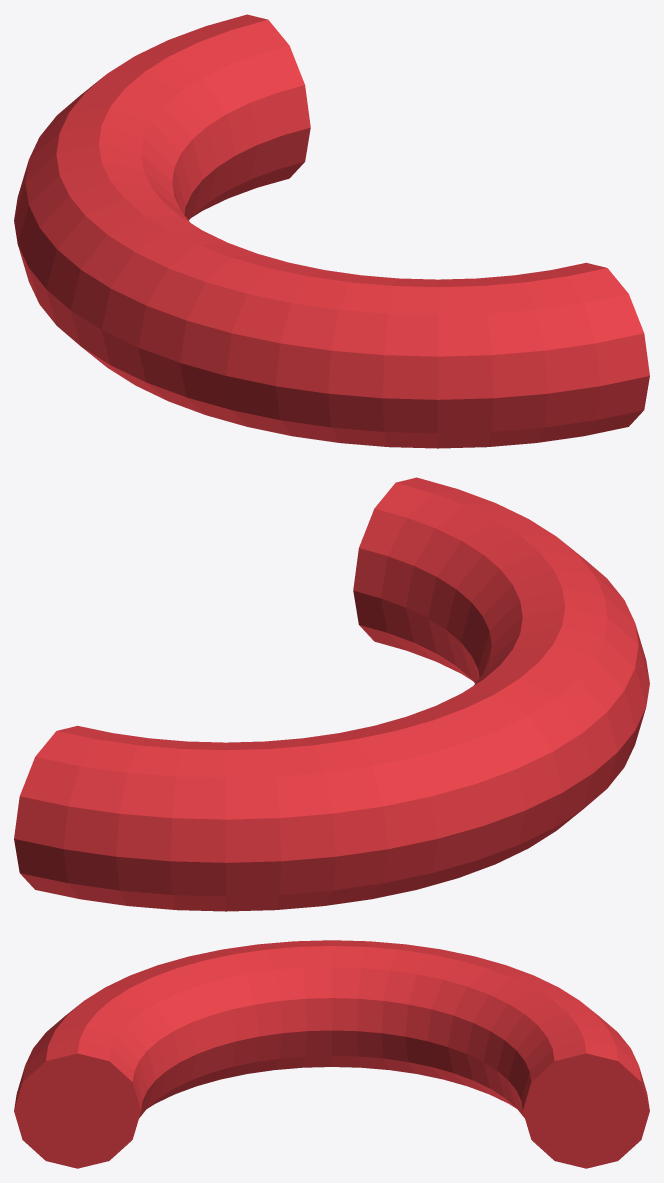
The model's file is F3LockerLeft.fbx.
3 views of the same model, one above another, from view 1: azimuth 30°, elevation 25°; view 2: azimuth 150°, elevation 25°; view 3: azimuth 270°, elevation 25° (orthographic). The views are drawn at different scales.
Parts seen in each view (by area): view 1: Handle.005; view 2: Handle.005; view 3: Handle.005.
Boxes of the visible parts, x1,y1,x2,y2 form: Handle.005: (14, 14, 649, 448); Handle.005: (14, 477, 649, 911); Handle.005: (14, 940, 649, 1168).
Bounding box in the file's own units: 5.98 × 2.39 × 11.96.
